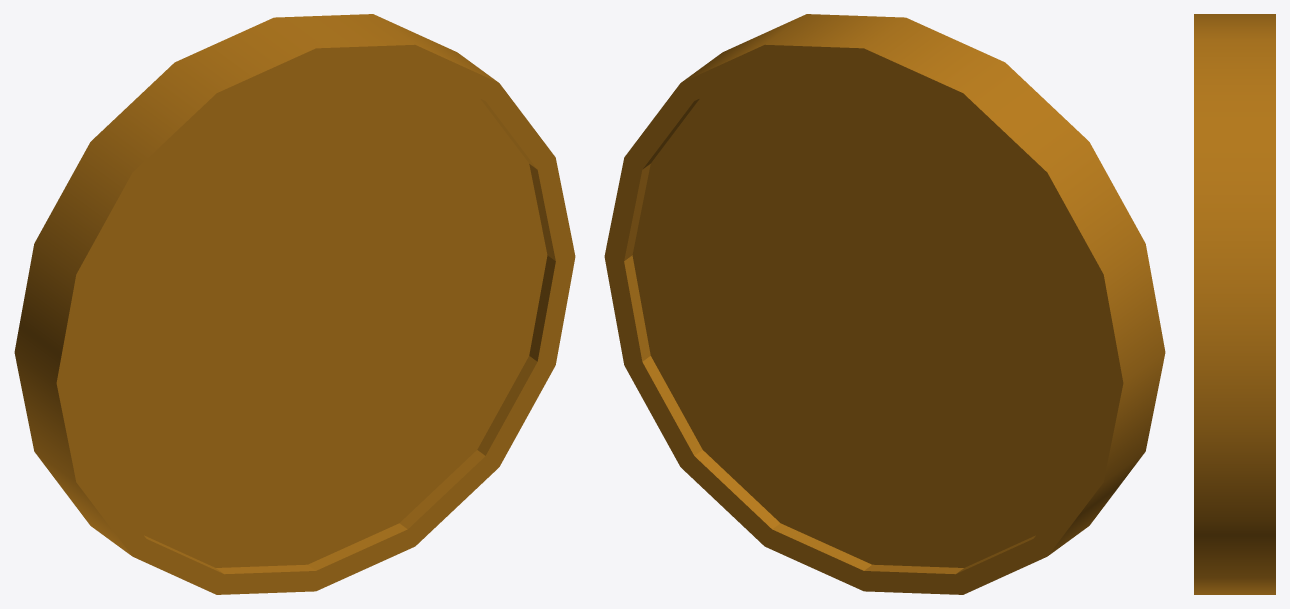
The model's file is wim-coin.fbx.
The picture shows the model from 3 angles, left to right: view 1: azimuth 30°, elevation 25°; view 2: azimuth 150°, elevation 25°; view 3: azimuth 270°, elevation 25°; orthographic projection. The views are drawn at different scales.
Parts seen in each view (by area): view 1: coin; view 2: coin; view 3: coin.
Boxes of the visible parts, box(x1,y1,x2,y2) form: coin: box(14, 14, 575, 594); coin: box(604, 14, 1165, 594); coin: box(1194, 14, 1275, 594).
Size of the model in its own units: 2.99 by 2.99 by 0.4203.
